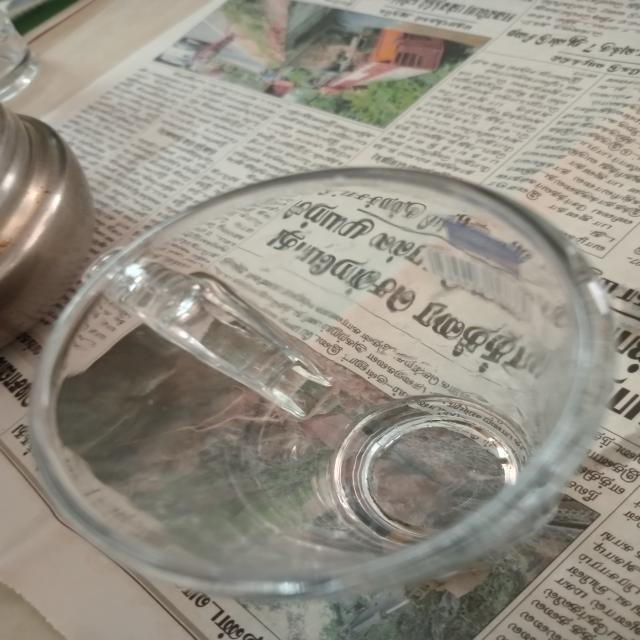glass-VX4N: (40, 160, 620, 640)
